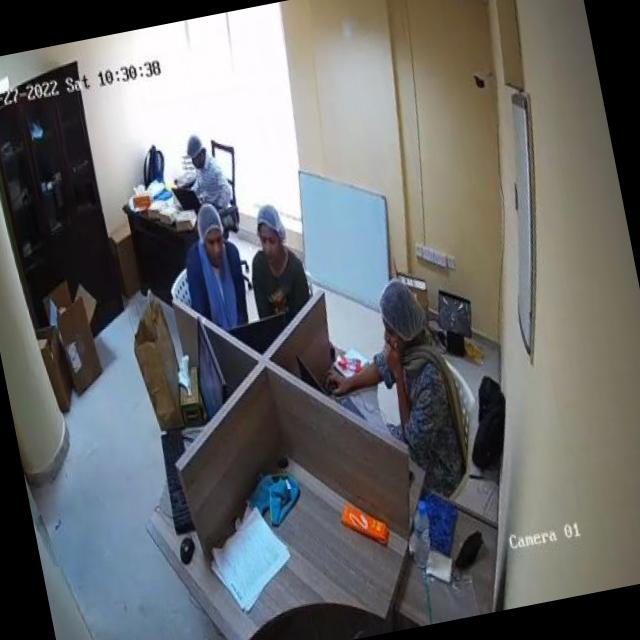hairnet: (378, 280, 429, 336), (254, 202, 286, 246), (193, 202, 224, 237), (182, 134, 208, 158)
